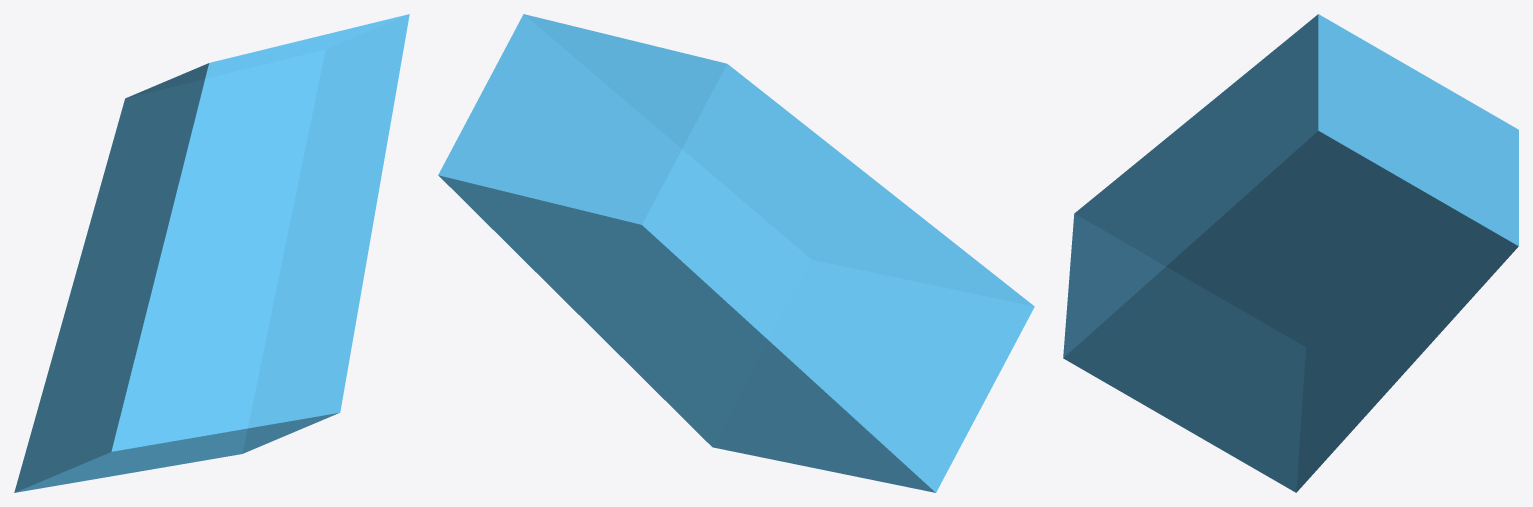
The model's file is Event_420094457_HBrechit_11.fbx.
3 renders of one model, left to right at view 1: azimuth 30°, elevation 25°; view 2: azimuth 150°, elevation 25°; view 3: azimuth 270°, elevation 25°, orthographic. The views are drawn at different scales.
Visible parts, largest first — view 1: Model; view 2: Model; view 3: Model.
Part boxes in pixels (bbox=[...]): Model: bbox=[14, 14, 409, 492]; Model: bbox=[438, 14, 1034, 492]; Model: bbox=[1063, 14, 1518, 492].
Bounding box in the file's own units: 0.9322 × 0.8672 × 0.7702.
